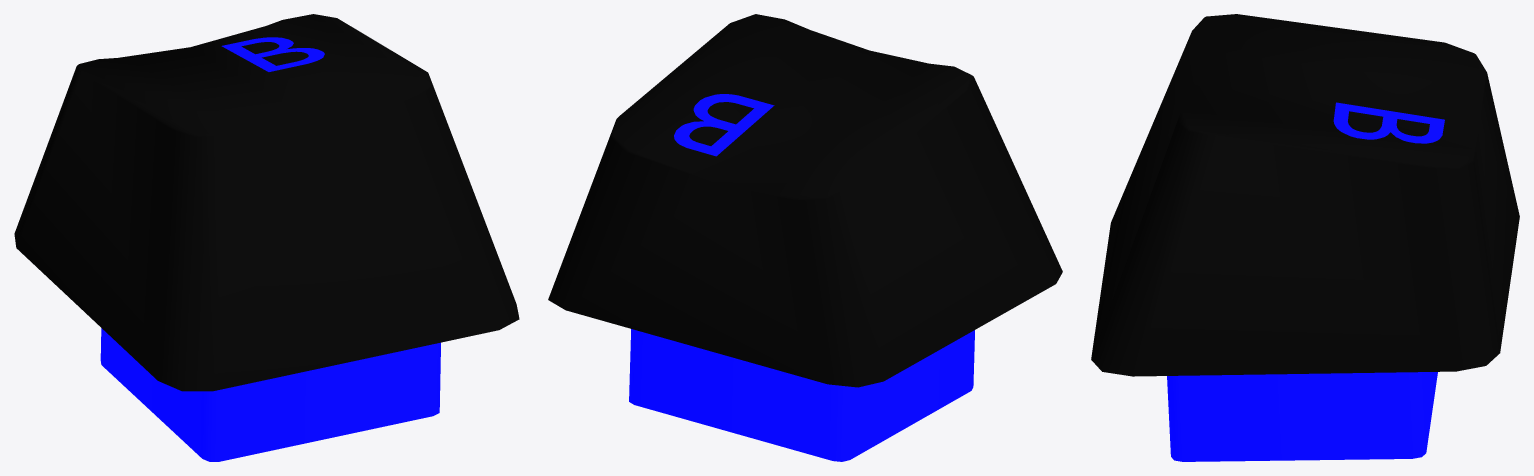
The model's file is b-DW9g1nBP.glb.
3 views of the same model, side by side, from view 1: azimuth 30°, elevation 25°; view 2: azimuth 150°, elevation 25°; view 3: azimuth 270°, elevation 25° (orthographic). The views are drawn at different scales.
Parts seen in each view (by area): view 1: StudyShelf_1167; view 2: StudyShelf_1167; view 3: StudyShelf_1167.
Boxes of the visible parts, bbox=[...] form: StudyShelf_1167: bbox=[14, 14, 519, 461]; StudyShelf_1167: bbox=[548, 14, 1062, 461]; StudyShelf_1167: bbox=[1091, 14, 1519, 461].
Bounding box in the file's own units: 4.35 × 3.71 × 4.35.
